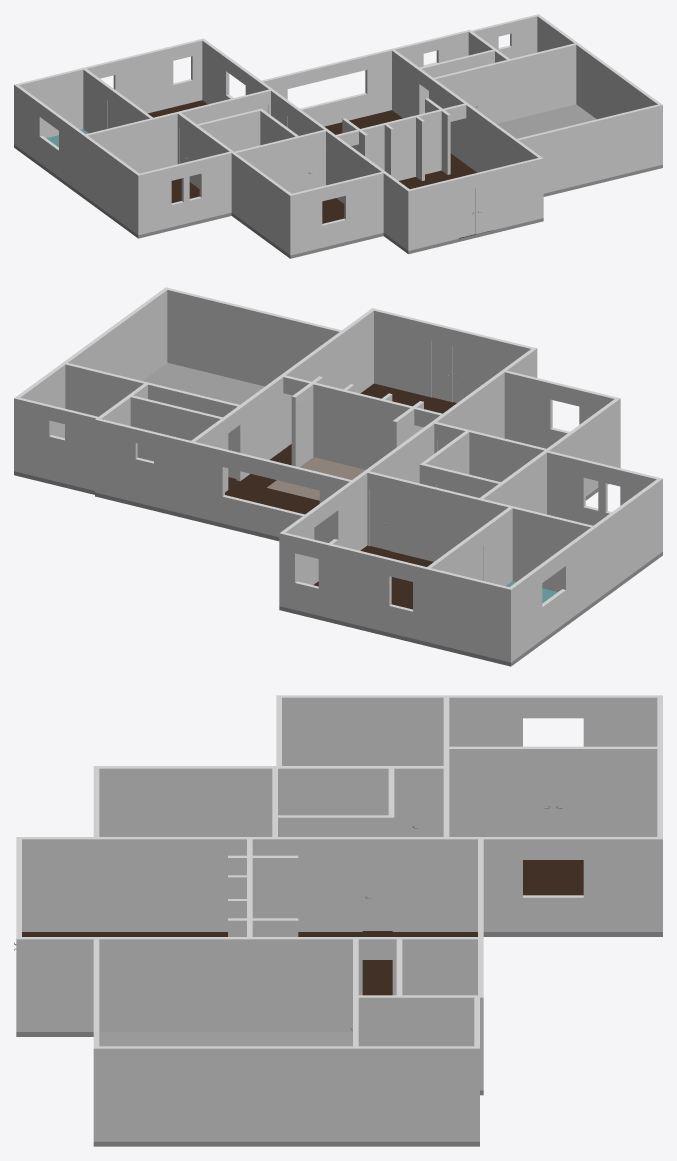
The model's file is HouseWithDoors.fbx.
3 views of the same model, one above another, from view 1: azimuth 30°, elevation 25°; view 2: azimuth 150°, elevation 25°; view 3: azimuth 270°, elevation 25° (orthographic). The views are drawn at different scales.
Parts seen in each view (by area): view 1: CompleteHouse, Door10, Door2, Door3, Door, Door8; view 2: CompleteHouse, Door4, Door10, Door2; view 3: CompleteHouse, Door11, Door6, Door5, Door7, Door9.
Part boxes in pixels (x1,y1,x2,y2): CompleteHouse: (14, 14, 662, 258); Door10: (475, 184, 492, 234); Door2: (459, 188, 475, 237); Door3: (307, 145, 323, 189); Door: (462, 82, 479, 110); Door8: (232, 126, 249, 151); CompleteHouse: (14, 287, 662, 666); Door4: (370, 489, 390, 550); Door10: (432, 341, 452, 402); Door2: (453, 346, 473, 402); CompleteHouse: (16, 695, 662, 1146); Door11: (362, 860, 392, 930); Door6: (553, 769, 583, 836); Door5: (523, 769, 553, 836); Door7: (409, 789, 439, 836); Door9: (362, 1018, 392, 1046).
Bounding box in the file's own units: 22.08 × 2.85 × 17.13.
